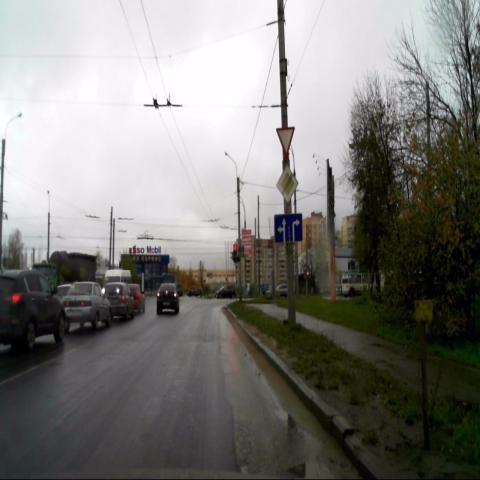2_2: (276, 165, 298, 204)
2_4: (276, 127, 295, 157)
5_15_2_2: (274, 214, 302, 242)
